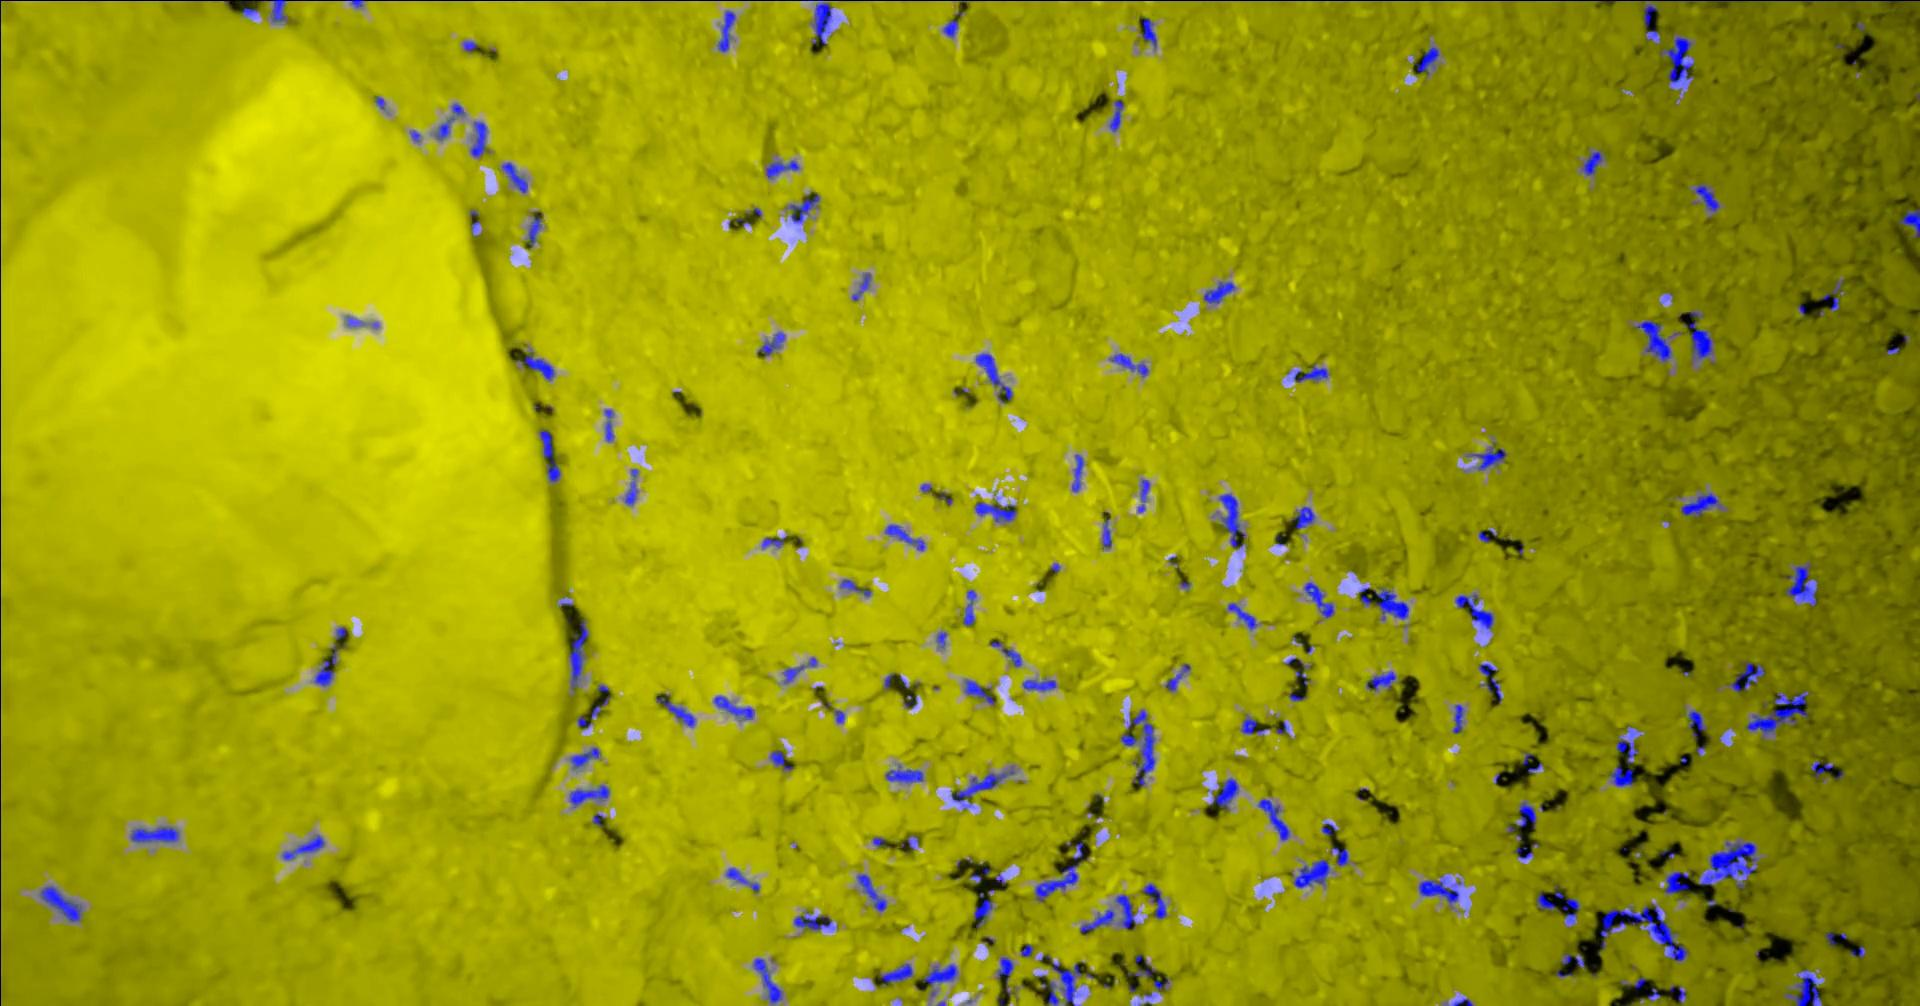ant: (1035, 841, 1087, 901), (1746, 691, 1810, 734), (1120, 709, 1154, 785), (951, 770, 1015, 803), (1051, 962, 1093, 1005), (975, 353, 1011, 401), (1658, 36, 1693, 83), (1634, 320, 1671, 361), (1783, 563, 1816, 606), (1219, 493, 1244, 547), (655, 692, 695, 727), (41, 887, 80, 921), (753, 958, 781, 1005), (1454, 594, 1493, 627), (801, 0, 830, 44), (1257, 799, 1289, 840), (1785, 969, 1821, 1005), (569, 619, 587, 688), (1373, 587, 1408, 619), (856, 874, 886, 911), (1468, 441, 1506, 470), (1728, 661, 1764, 691), (1418, 876, 1459, 903), (1683, 321, 1712, 358), (538, 429, 559, 481), (1304, 582, 1333, 617), (516, 351, 552, 379), (1293, 859, 1330, 887), (282, 835, 324, 859), (885, 525, 924, 550), (436, 103, 463, 138), (1680, 492, 1718, 517), (314, 644, 337, 685), (712, 696, 753, 719), (1208, 779, 1238, 809), (1478, 663, 1501, 702), (789, 192, 818, 222), (1142, 883, 1166, 918), (1111, 353, 1148, 376), (975, 500, 1016, 521), (569, 785, 610, 805), (130, 826, 178, 842), (725, 868, 759, 890), (1079, 909, 1114, 932), (922, 964, 957, 986), (502, 163, 527, 192), (1227, 603, 1256, 629), (964, 680, 994, 704), (1203, 281, 1234, 304), (792, 909, 830, 929), (879, 963, 910, 986), (1164, 663, 1190, 691), (1820, 279, 1843, 310), (1115, 894, 1135, 929), (973, 892, 992, 927), (717, 10, 734, 51), (1415, 46, 1437, 75), (590, 685, 610, 719), (1695, 184, 1719, 211), (570, 747, 599, 768), (885, 766, 923, 782), (1615, 735, 1637, 763), (1898, 208, 1919, 238), (470, 121, 486, 156), (758, 332, 783, 354), (997, 956, 1012, 995), (1293, 365, 1327, 381), (1643, 3, 1658, 39), (1366, 671, 1396, 690), (1290, 506, 1314, 528), (766, 160, 797, 177), (1609, 765, 1633, 786), (1663, 871, 1688, 893), (623, 467, 637, 504), (851, 273, 870, 300), (1582, 151, 1603, 175), (1070, 453, 1083, 492), (841, 579, 870, 596), (1688, 710, 1705, 737), (1128, 960, 1156, 977), (963, 589, 975, 625), (1517, 801, 1535, 827), (1561, 897, 1578, 922), (1109, 99, 1123, 131), (527, 215, 541, 246), (1241, 716, 1267, 733), (770, 749, 792, 768), (1523, 752, 1542, 774), (1142, 18, 1156, 47), (1810, 760, 1832, 777), (1137, 479, 1149, 511), (1043, 981, 1059, 1005), (1001, 647, 1021, 666), (1559, 953, 1583, 967), (783, 666, 804, 682), (1022, 680, 1055, 690), (1535, 893, 1556, 909), (1451, 704, 1463, 733), (1102, 512, 1111, 547), (1669, 984, 1686, 1002), (1331, 846, 1347, 865), (1620, 977, 1644, 989), (270, 0, 284, 22), (604, 409, 613, 439), (943, 19, 957, 37), (761, 537, 783, 547), (1357, 587, 1370, 605), (1152, 977, 1168, 989), (1515, 846, 1531, 857), (1849, 945, 1865, 956), (577, 715, 590, 728), (1321, 822, 1335, 835), (1020, 944, 1032, 956), (904, 694, 916, 708), (872, 837, 888, 847), (1799, 0, 1919, 1), (463, 41, 477, 51), (936, 633, 946, 647), (1684, 0, 1770, 1)
